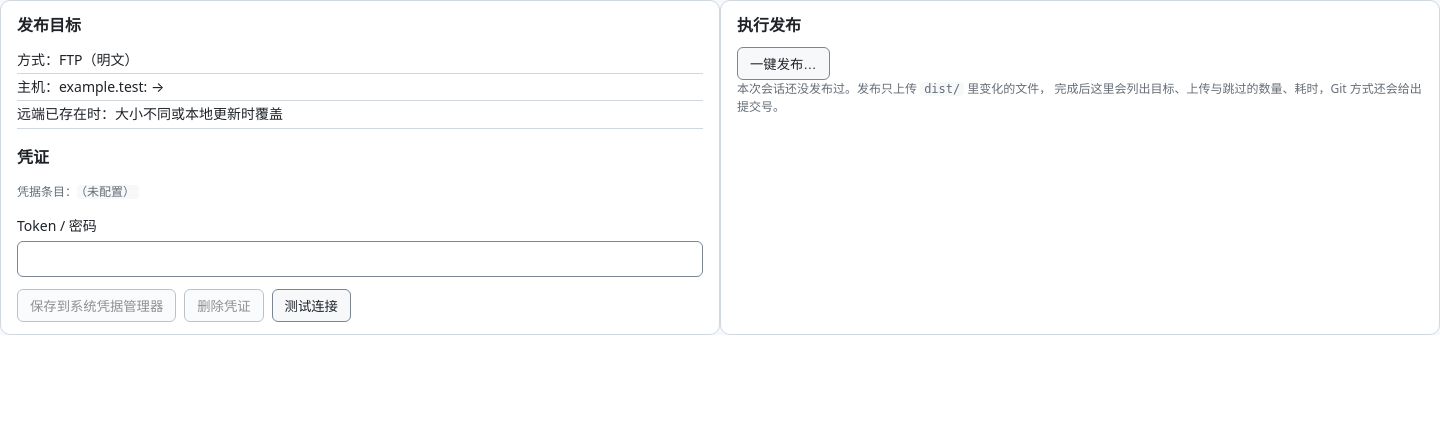
Test: DeployPanel 的发布确认 › 确认那一屏说清目标、数量、字节与「不会做什么」
The width and height of the screenshot is (1440, 429).
Click the button "一键发布…": (783, 63) [737, 47, 830, 80]
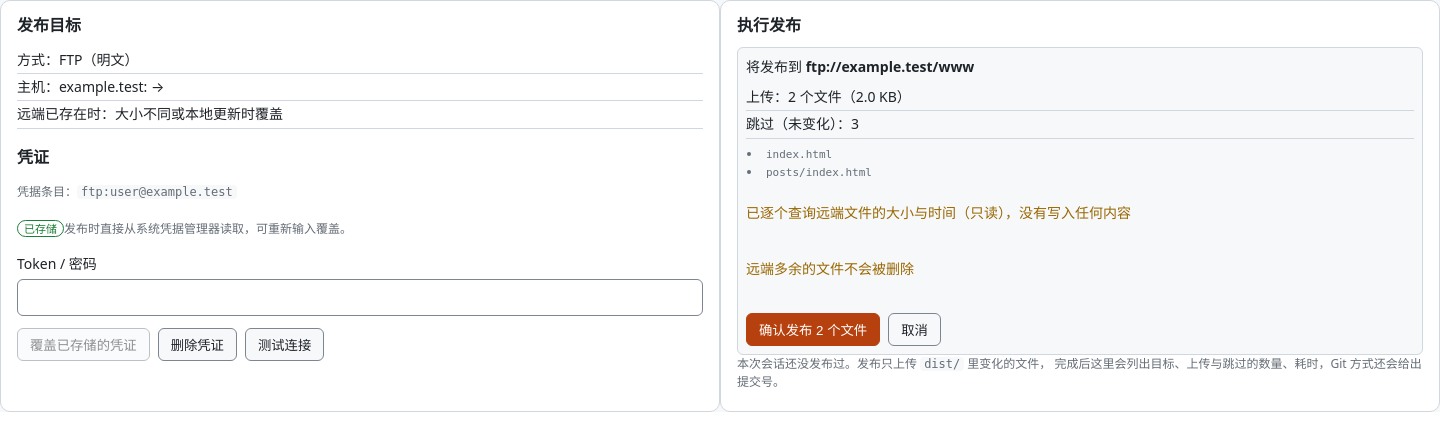
Now the element with class "deploy__confirm" shows "ftp://example.test/www", box [806, 57, 974, 76]
Now the element with class "deploy__confirm" shows "2 个文件", box [746, 87, 911, 106]
Now the element with class "deploy__confirm" shows "2.0 KB", box [746, 87, 911, 106]
